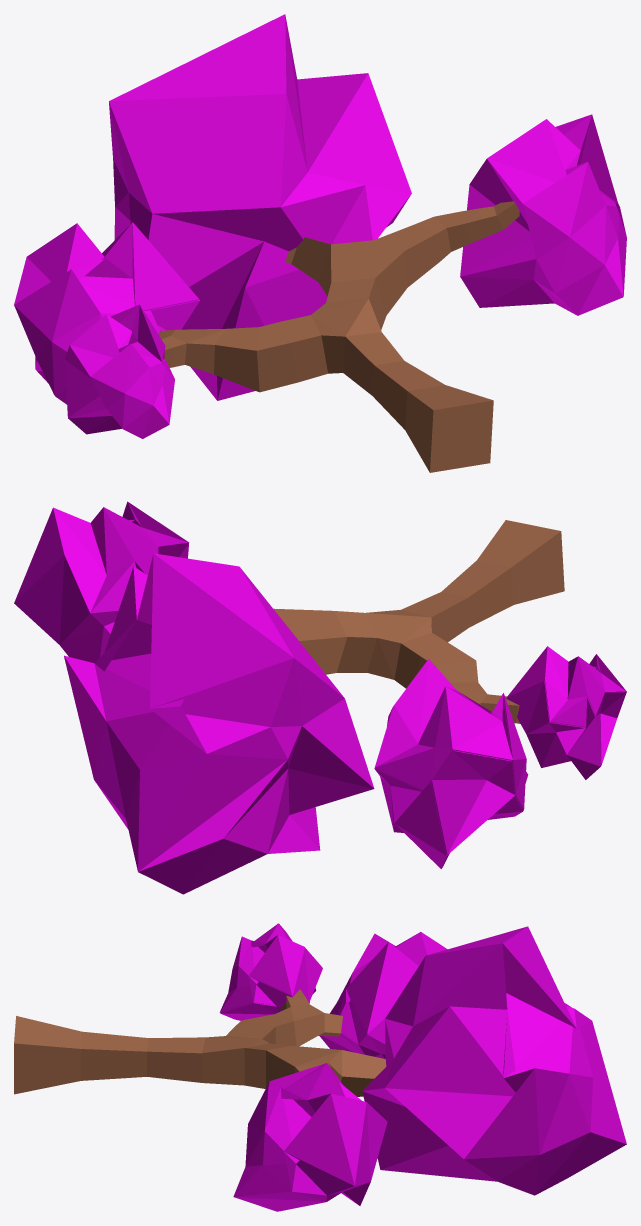
Rendered from tree4.fbx.
3 renders of one model, top to bottom at view 1: azimuth 30°, elevation 25°; view 2: azimuth 150°, elevation 25°; view 3: azimuth 270°, elevation 25°, orthographic. The views are drawn at different scales.
Visible parts, largest first — view 1: Cube; view 2: Cube; view 3: Cube.
Part boxes in pixels (left/top/right/bottom): Cube: left=14, top=14, right=626, bottom=472; Cube: left=14, top=501, right=626, bottom=894; Cube: left=14, top=923, right=626, bottom=1211.
Bounding box in the file's own units: 254 × 134 × 275.
